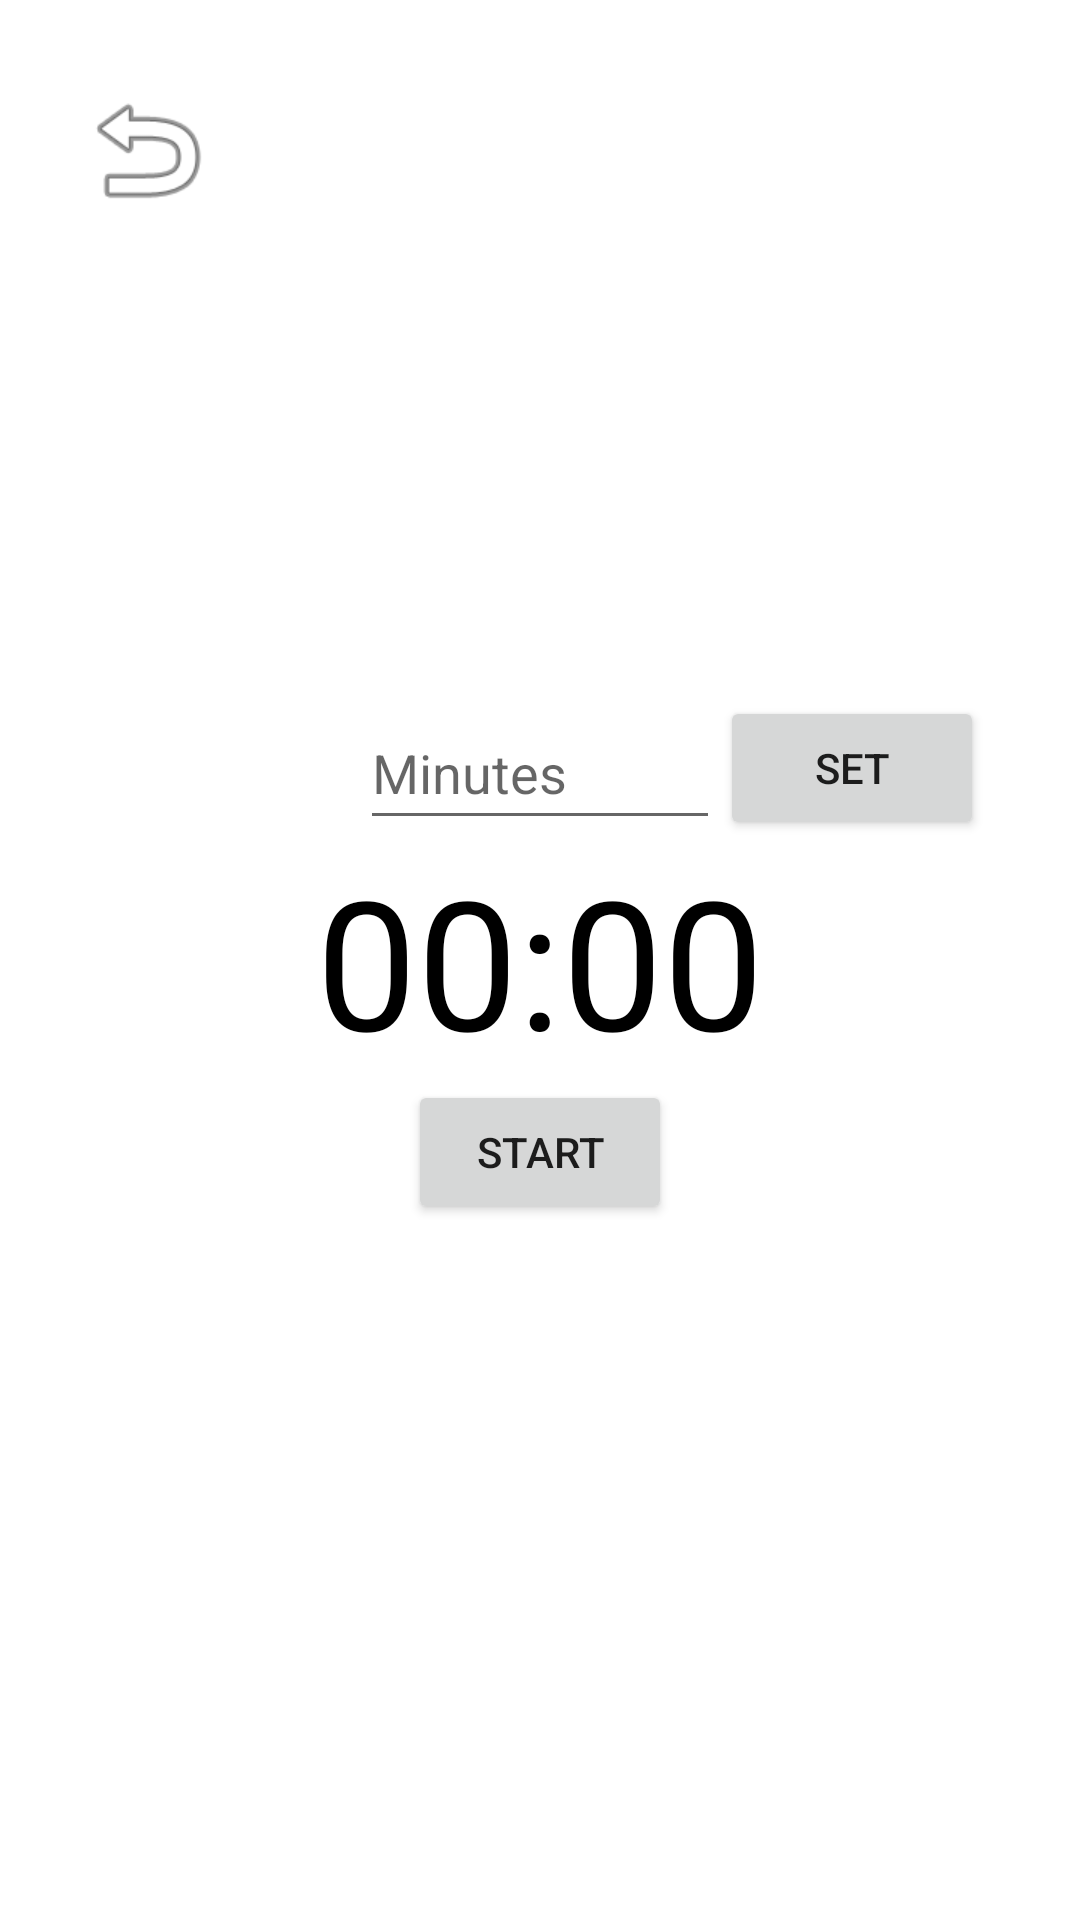

Screen size 1080 × 1920. Icon name, then its box in pixels as (x1,y1,x2,y2):
revert: (97,104,201,198)
